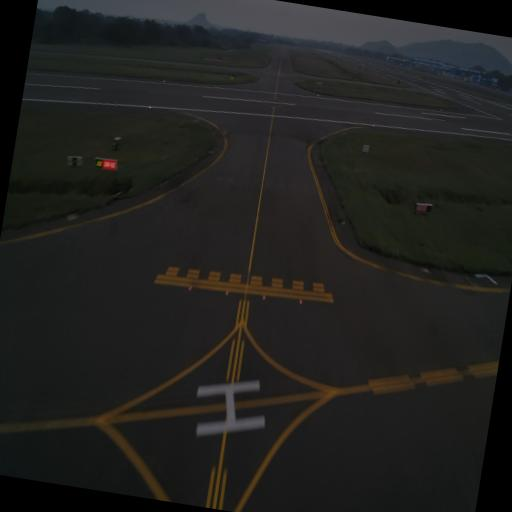on: (184, 280, 195, 296), (296, 294, 306, 310), (258, 290, 268, 304), (221, 285, 230, 298)
